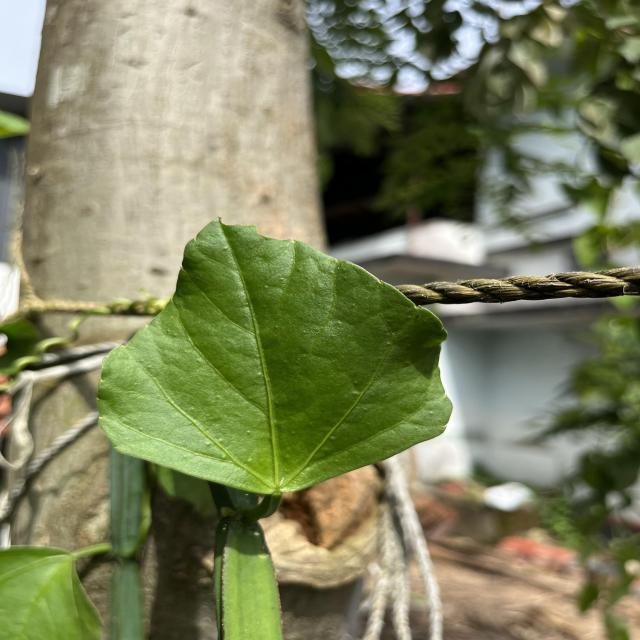Cissus quadrangularis: (90, 212, 458, 500)
